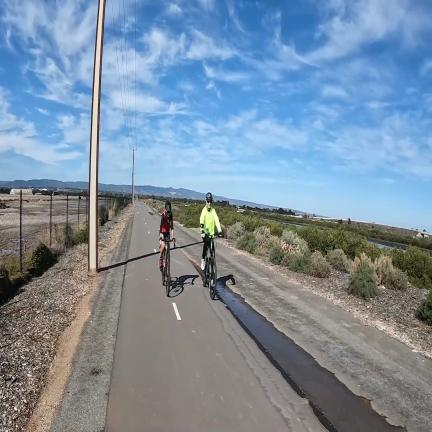Bike_Lane: (105, 248, 325, 432), (129, 203, 159, 260)
